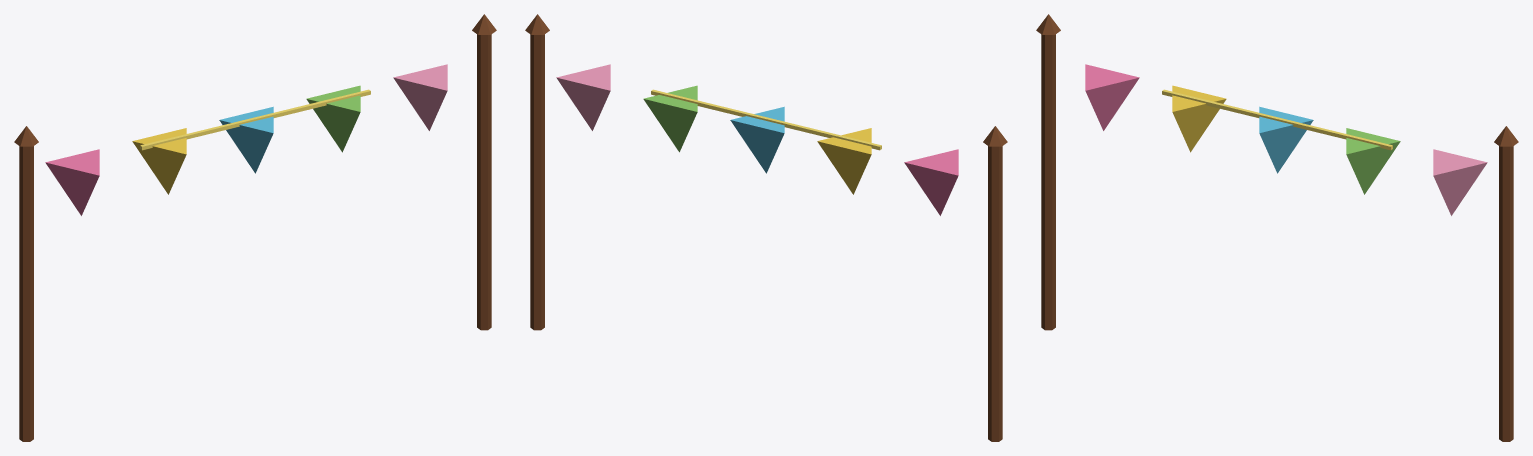
File: lantern.glb
3 views of the same model, side by side, from view 1: azimuth 30°, elevation 25°; view 2: azimuth 150°, elevation 25°; view 3: azimuth 330°, elevation 25° (orthographic).
Visible parts, largest first — view 1: Cone; view 2: Cone; view 3: Cone.
Part boxes in pixels (left/top/right/bottom): Cone: left=14, top=14, right=496, bottom=441; Cone: left=525, top=14, right=1007, bottom=441; Cone: left=1036, top=14, right=1518, bottom=441.
Size of the model in its own units: 1.67 by 1.05 by 0.165.
